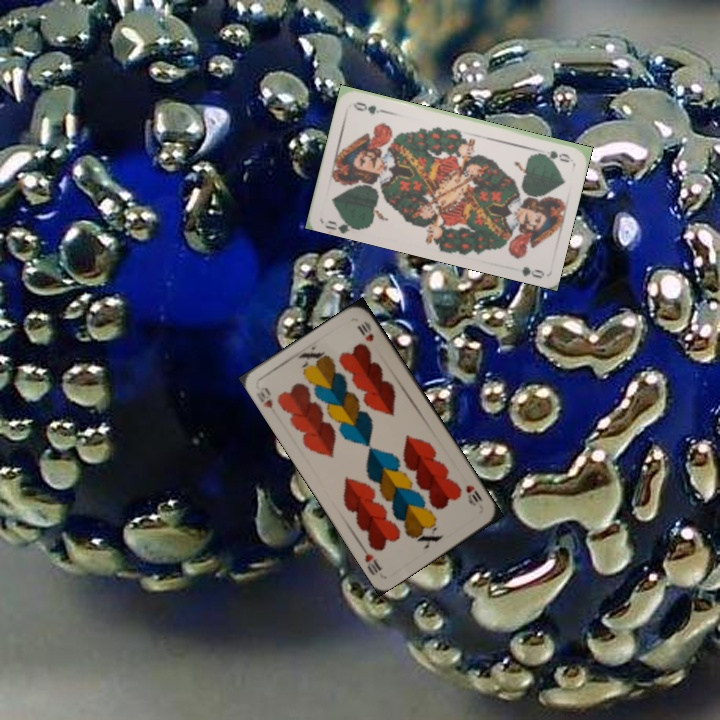GO: (322, 212, 362, 234), (533, 146, 573, 165)
H10: (462, 481, 485, 509), (252, 383, 275, 411)
